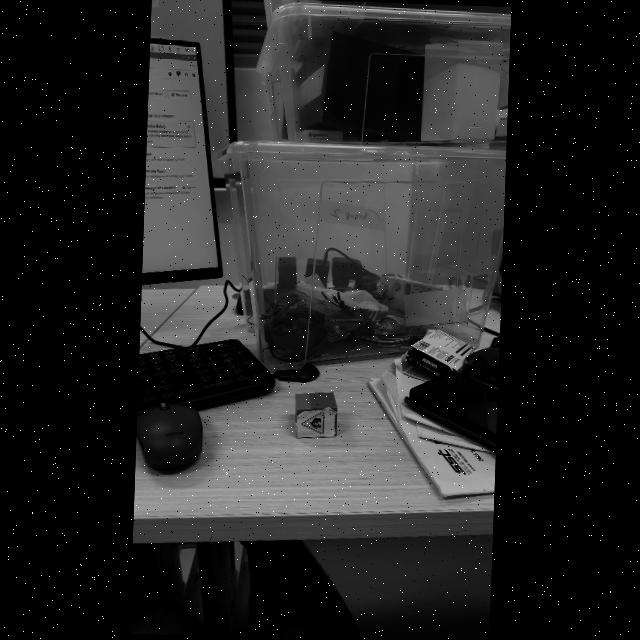Earthquake: (301, 411, 323, 433)
